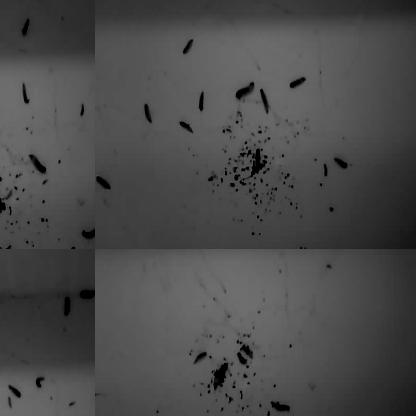PtecticusTenebrifer: (29, 153, 47, 175), (236, 82, 255, 99), (214, 365, 226, 389), (271, 398, 290, 413), (260, 89, 270, 115), (96, 174, 111, 191), (332, 155, 349, 170), (290, 75, 306, 90), (80, 224, 95, 239), (182, 38, 194, 56), (8, 384, 22, 399), (193, 350, 207, 365), (144, 103, 153, 125), (180, 121, 194, 134), (21, 17, 30, 36), (64, 296, 72, 316), (80, 289, 95, 299), (22, 83, 29, 104), (199, 91, 205, 113), (296, 249, 314, 256), (384, 249, 405, 255), (36, 374, 44, 388), (0, 231, 6, 249), (0, 237, 9, 249), (0, 189, 6, 206), (0, 152, 5, 171), (0, 297, 8, 308), (0, 201, 5, 218), (327, 249, 344, 254), (163, 249, 180, 254), (115, 0, 129, 6), (249, 249, 261, 256), (36, 0, 44, 10), (0, 216, 3, 240), (323, 164, 328, 178), (19, 0, 36, 4), (95, 249, 102, 258), (80, 103, 84, 118), (0, 230, 3, 249), (0, 0, 9, 6)
